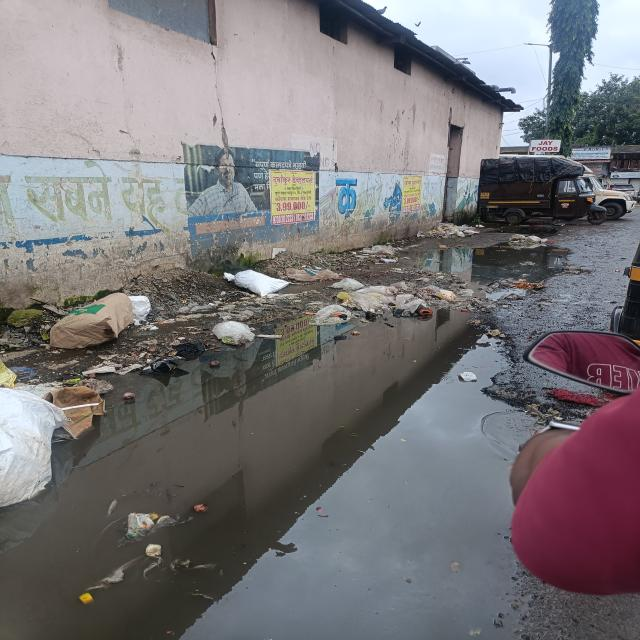garbage: (7, 272, 275, 471), (286, 242, 496, 317)
